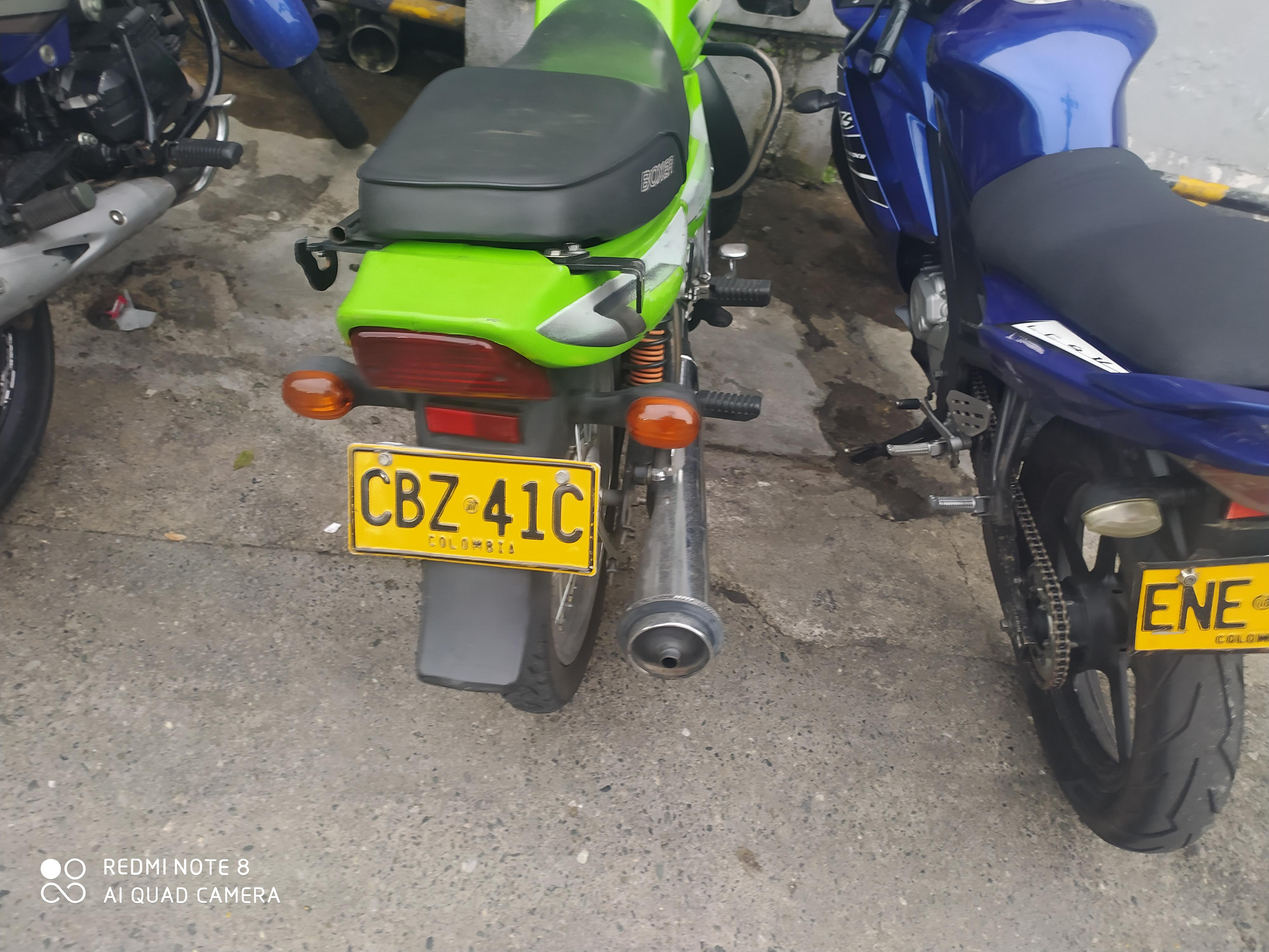placa: (336, 438, 604, 581), (1119, 545, 1269, 662)
